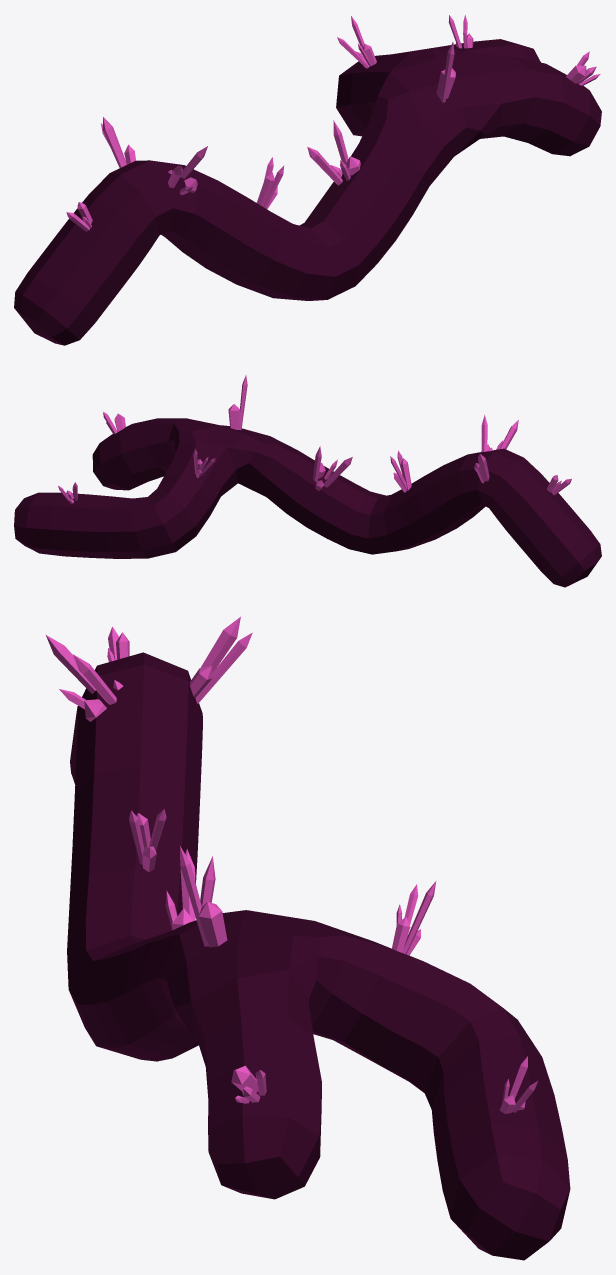
Rendered from roots_2.fbx.
The picture shows the model from 3 angles, top to bottom: view 1: azimuth 30°, elevation 25°; view 2: azimuth 150°, elevation 25°; view 3: azimuth 270°, elevation 25°; orthographic projection. The views are drawn at different scales.
Parts seen in each view (by area): view 1: roots_2; view 2: roots_2; view 3: roots_2.
Boxes of the visible parts, x1,y1,x2,y2 form: roots_2: [14, 15, 601, 345]; roots_2: [14, 375, 601, 587]; roots_2: [46, 616, 570, 1260].
Size of the model in its own units: 410 by 127 by 192.
